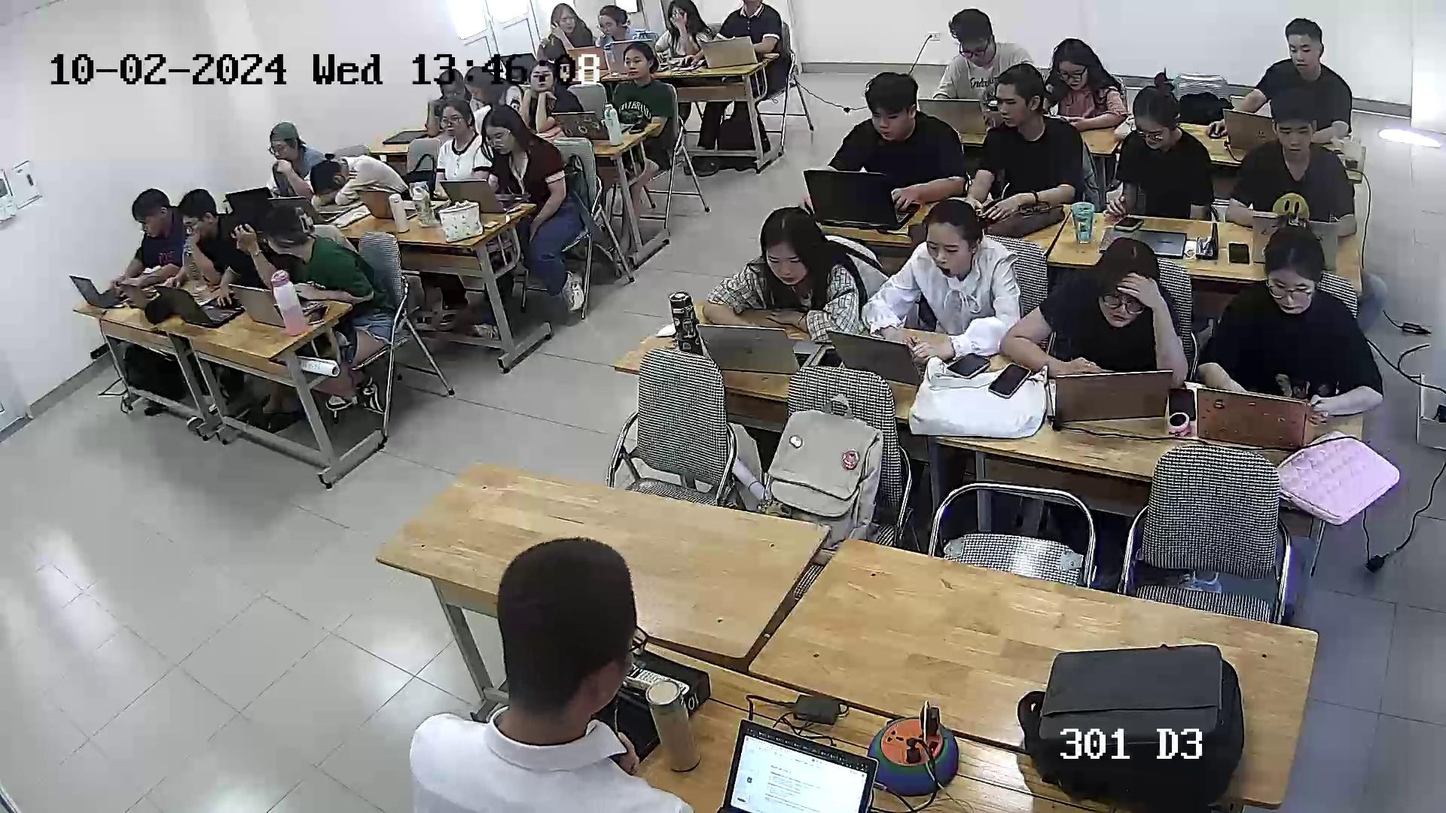Bend Over The Desk: (309, 152, 391, 206)
phone: (1103, 193, 1148, 241)
